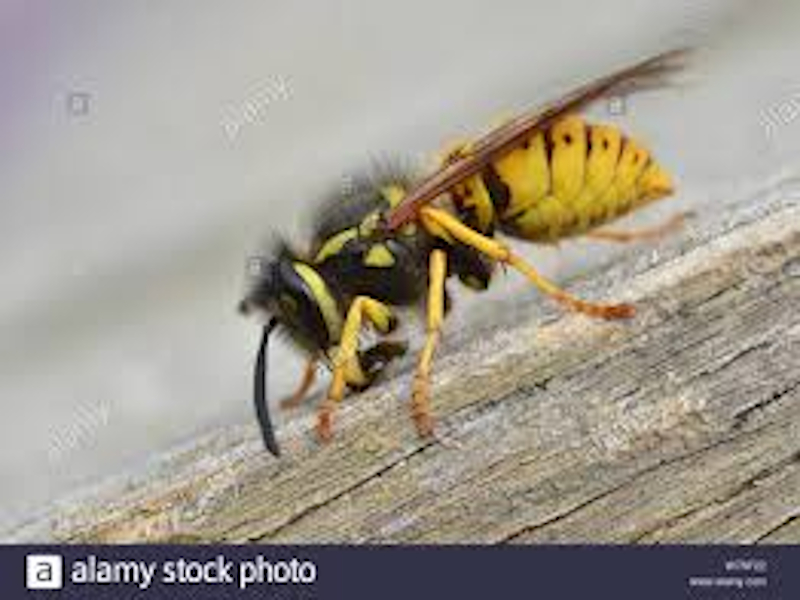chax: (224, 25, 727, 478)
